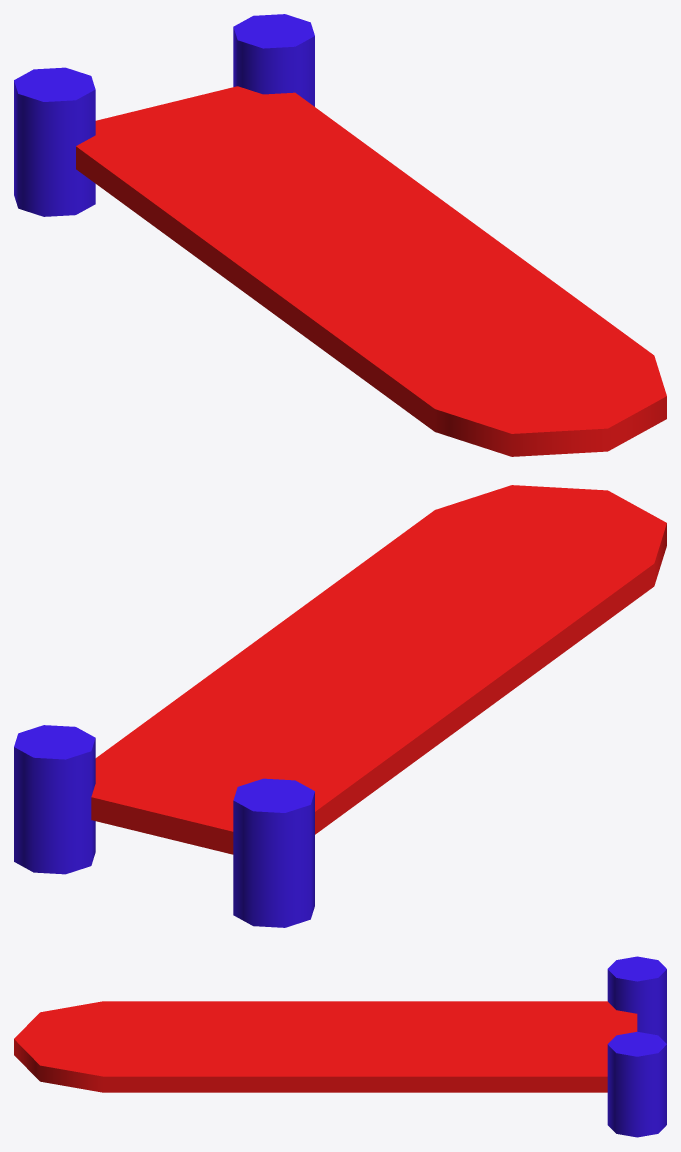
Rendered from Bed.fbx.
The picture shows the model from 3 angles, top to bottom: view 1: azimuth 30°, elevation 25°; view 2: azimuth 150°, elevation 25°; view 3: azimuth 270°, elevation 25°; orthographic projection. The views are drawn at different scales.
Visible parts, largest first — view 1: Bed; view 2: Bed; view 3: Bed.
Boxes of the visible parts, x1=… form: Bed: x1=14, y1=14, x2=666, y2=456; Bed: x1=14, y1=485, x2=666, y2=927; Bed: x1=14, y1=956, x2=666, y2=1137.
Size of the model in its own units: 40 by 15 by 110.
